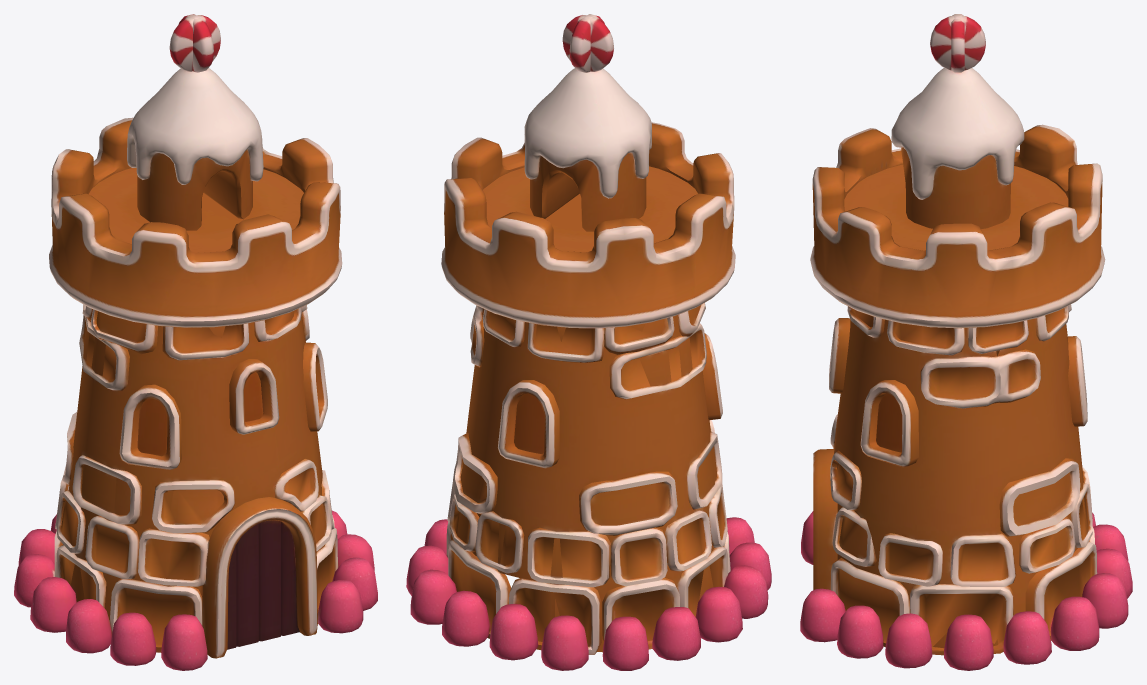
Rendered from gingerbread_tower_v2.glb.
The picture shows the model from 3 angles, left to right: view 1: azimuth 30°, elevation 25°; view 2: azimuth 150°, elevation 25°; view 3: azimuth 270°, elevation 25°; orthographic projection.
Visible parts, largest first — view 1: gingerbread_tower; view 2: gingerbread_tower; view 3: gingerbread_tower.
Part boxes in pixels (left/top/right/bottom): gingerbread_tower: left=14, top=14, right=377, bottom=670; gingerbread_tower: left=406, top=14, right=771, bottom=670; gingerbread_tower: left=800, top=14, right=1132, bottom=670.
Bounding box in the file's own units: 4.3 × 7.6 × 3.95.
1 material, 1 textured.
